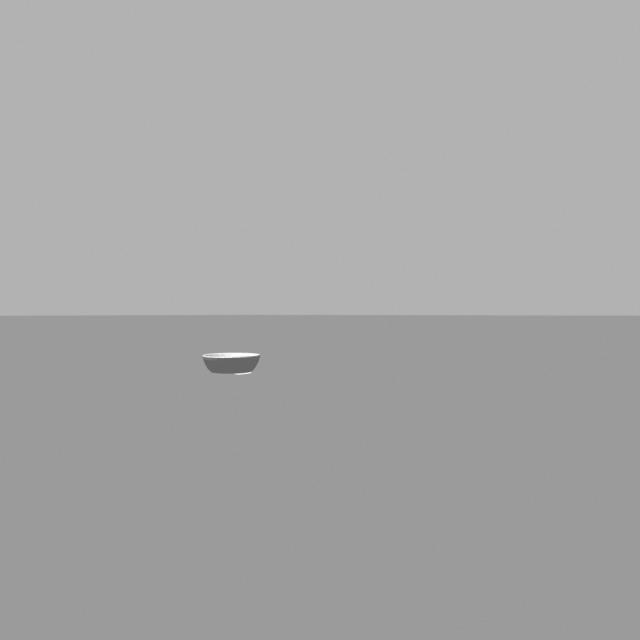bowl: (191, 341, 271, 387)
